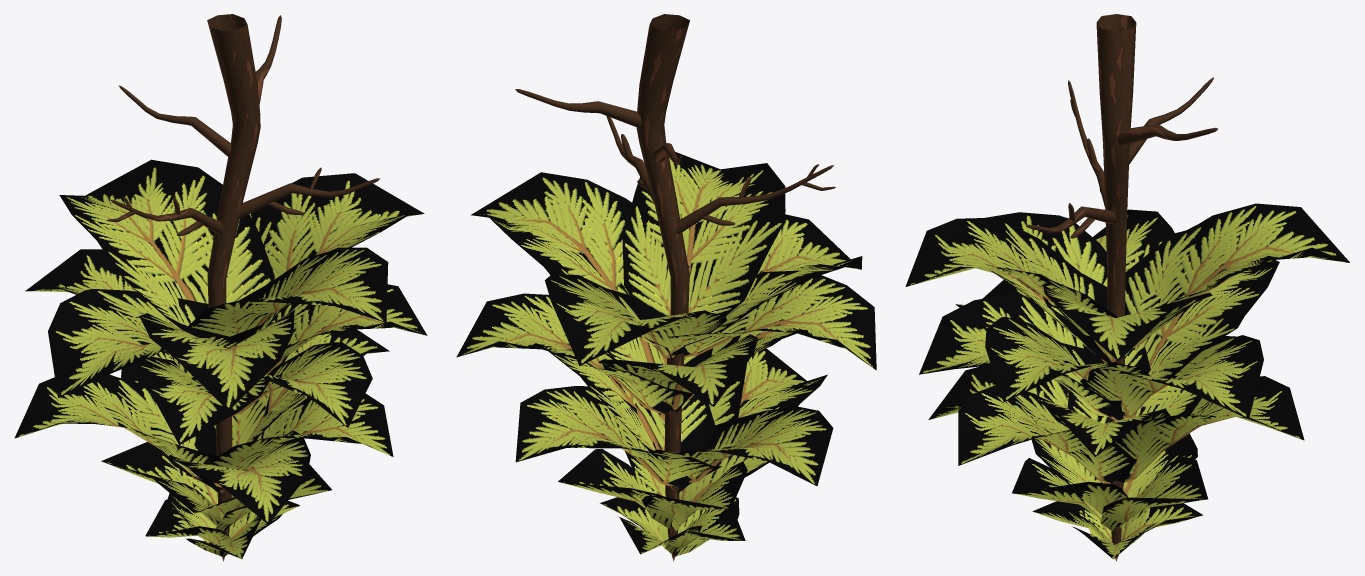
Rendered from PineTree_3.glb.
The picture shows the model from 3 angles, left to right: view 1: azimuth 30°, elevation 25°; view 2: azimuth 150°, elevation 25°; view 3: azimuth 270°, elevation 25°; orthographic projection.
Parts seen in each view (by area): view 1: PineTree_3; view 2: PineTree_3; view 3: PineTree_3.
Part boxes in pixels (x1,y1,x2,y2): PineTree_3: (14, 14, 427, 561); PineTree_3: (456, 14, 876, 561); PineTree_3: (905, 14, 1349, 561).
Bounding box in the file's own units: 1.76 × 2.35 × 1.75.
Materials: 2 (2 with a texture image).
